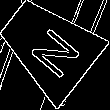N_NW: (17, 15, 79, 78)
